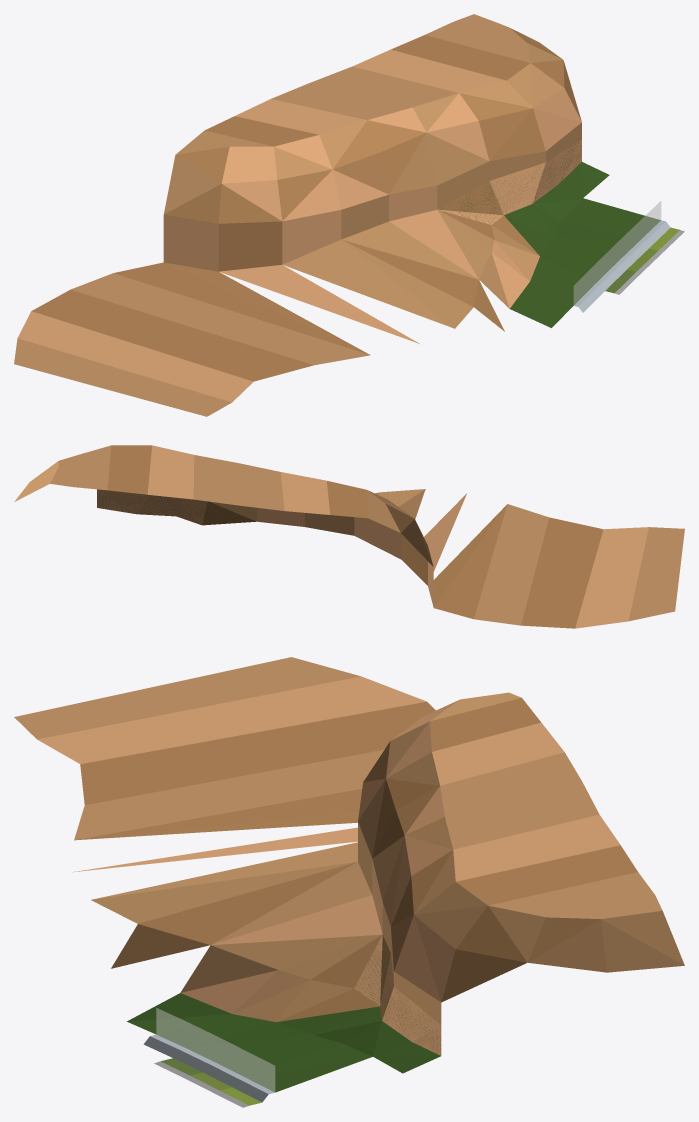
The picture shows the model from 3 angles, top to bottom: view 1: azimuth 30°, elevation 25°; view 2: azimuth 150°, elevation 25°; view 3: azimuth 270°, elevation 25°; orthographic projection. The views are drawn at different scales.
Parts seen in each view (by area): view 1: O17DB2; view 2: O17DB2; view 3: O17DB2.
Part boxes in pixels (x1,y1,x2,y2): O17DB2: (14,14,684,416); O17DB2: (14,445,684,628); O17DB2: (14,657,684,1107).
Size of the model in its own units: 138 by 28.25 by 90.26.
